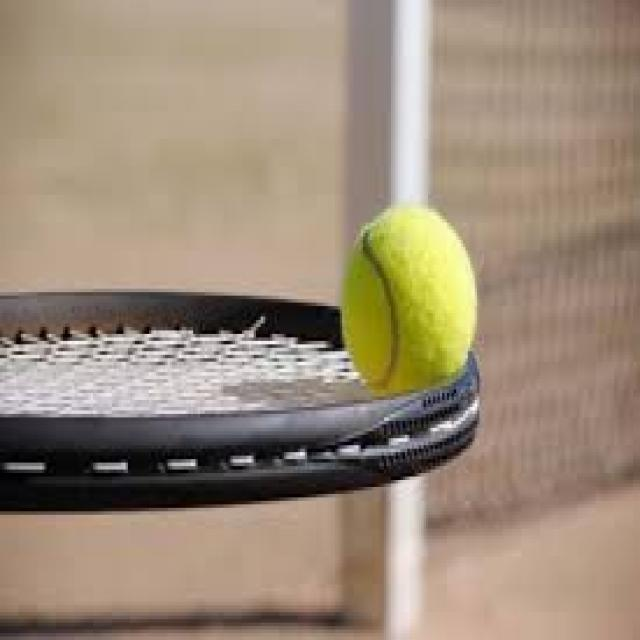Tennis-Ball: (338, 204, 480, 402)
